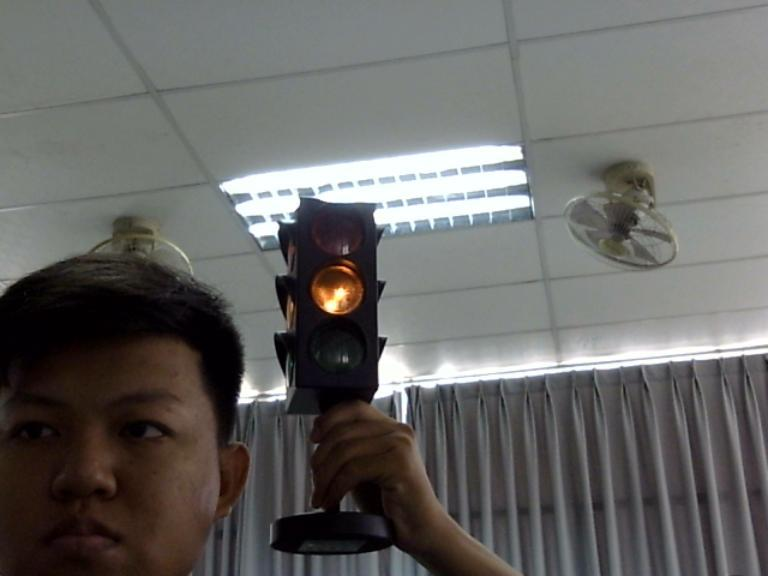yellow: (309, 258, 366, 318)
